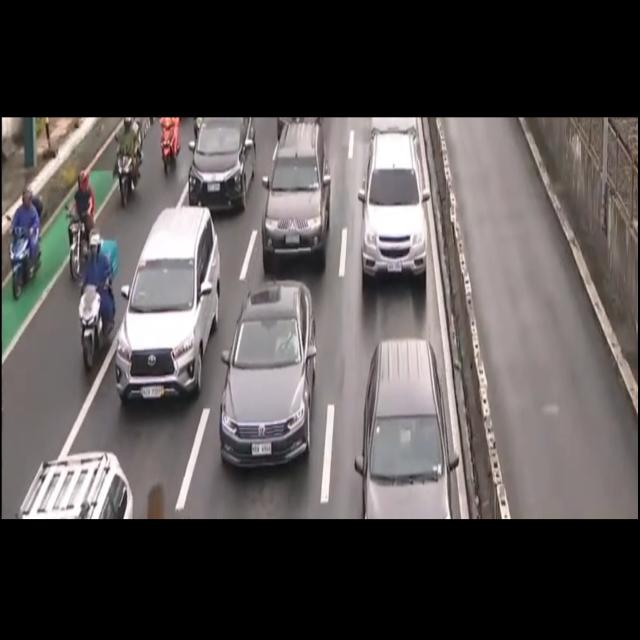Motorcycle: (78, 221, 118, 375), (7, 184, 44, 304), (65, 158, 95, 292), (112, 118, 146, 206)
SUV: (115, 204, 222, 406), (354, 339, 459, 516), (262, 123, 330, 265), (362, 135, 425, 277), (188, 115, 257, 218)
Sedan: (219, 279, 316, 468)
